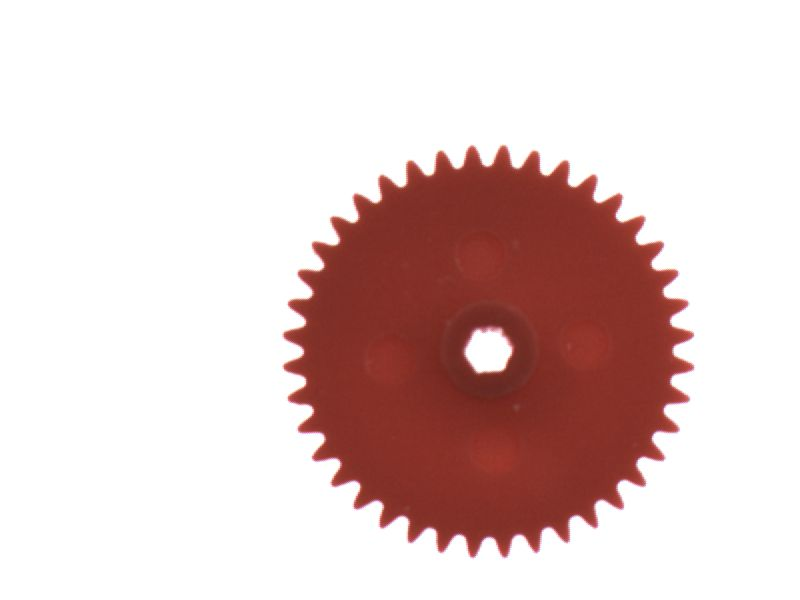good_product: (267, 128, 711, 570)
